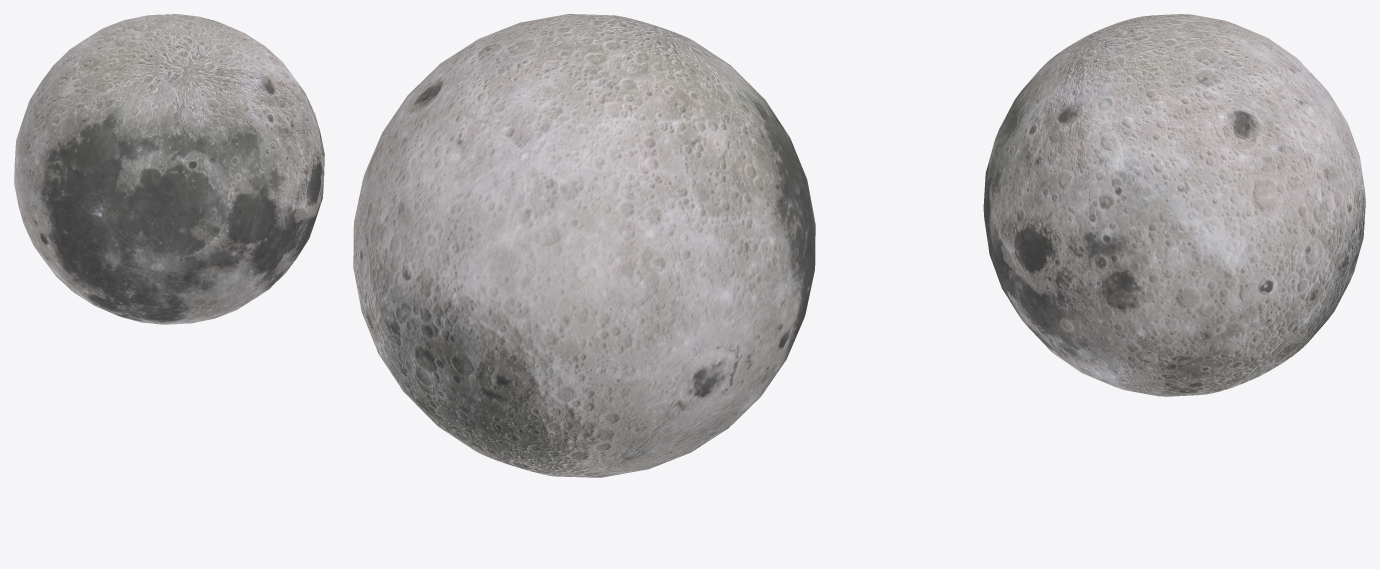
Rendered from monn-aaaa.glb.
The picture shows the model from 3 angles, left to right: view 1: azimuth 30°, elevation 25°; view 2: azimuth 150°, elevation 25°; view 3: azimuth 270°, elevation 25°; orthographic projection. The views are drawn at different scales.
Parts seen in each view (by area): view 1: moon11; view 2: moon11; view 3: moon11.
Boxes of the visible parts, bbox=[...] form: moon11: bbox=[14, 14, 324, 324]; moon11: bbox=[353, 14, 815, 477]; moon11: bbox=[983, 14, 1365, 396].
Bounding box in the file's own units: 2.2 × 3.34 × 3.01.
Materials: 1 (1 with a texture image).
